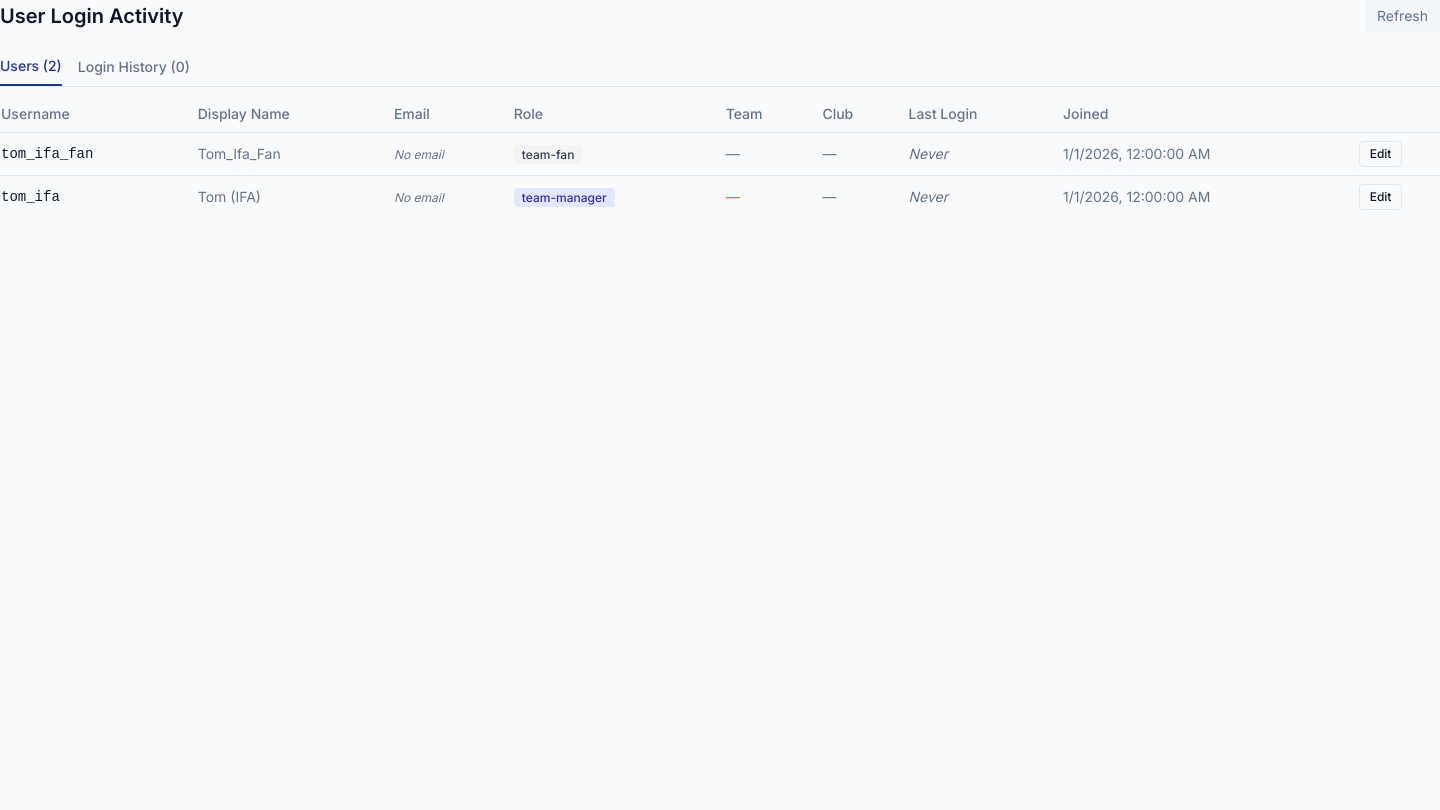
Test: AdminUsers editing (SB-803) › opens an editor for a user
Click the button "Edit" in the row of "team-fan". click: (1381, 154)
box: 1359,141 -> 1402,167
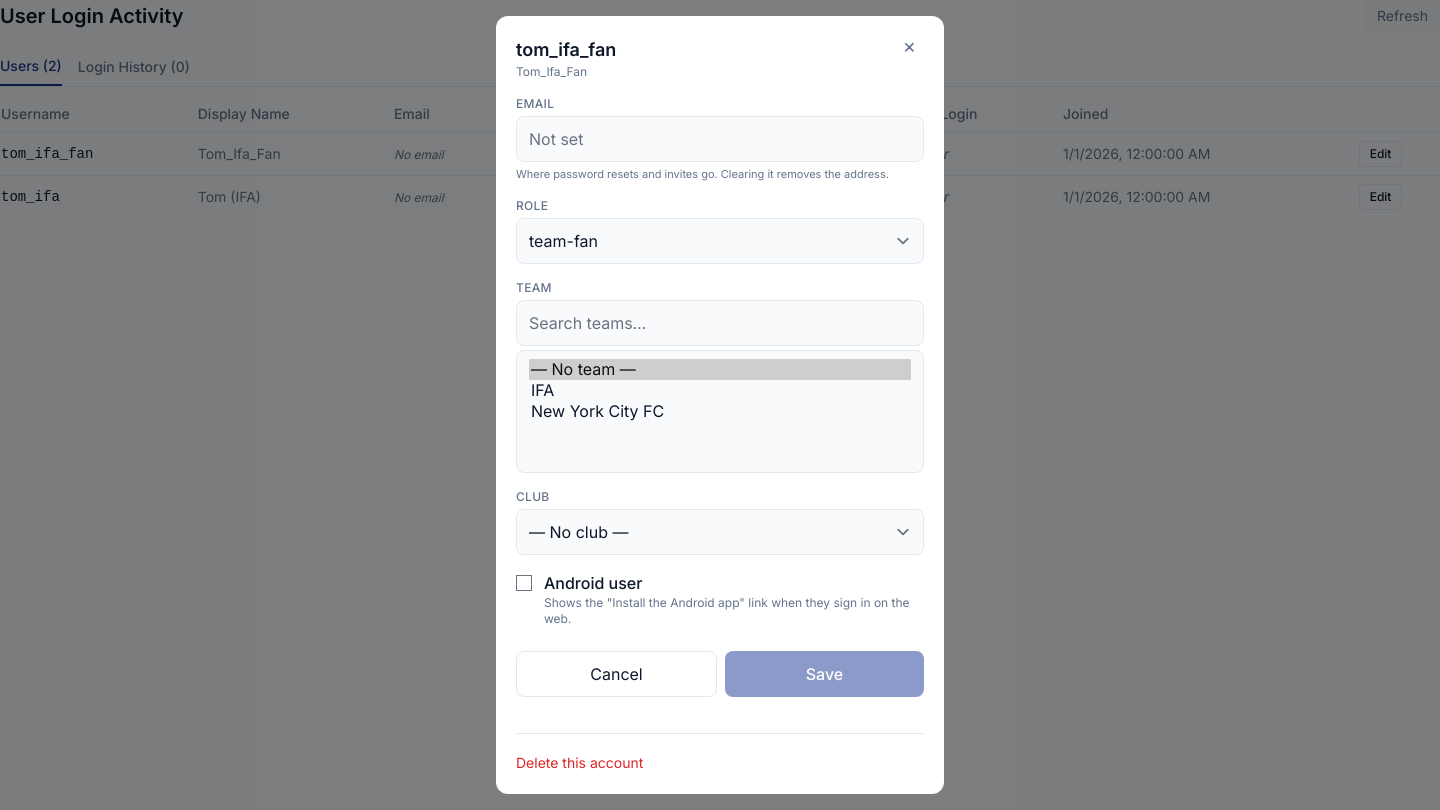
Expected: the element with test id "user-editor" shows "tom_ifa_fan", 516,39 -> 616,60
